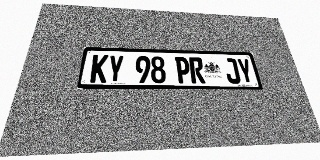8: (151, 56, 166, 83)
9: (135, 56, 150, 83)
J: (223, 58, 241, 84)
K: (90, 54, 109, 83)
P: (175, 57, 191, 83)
R: (189, 57, 206, 83)
Y: (236, 58, 255, 84), (107, 55, 124, 83)
